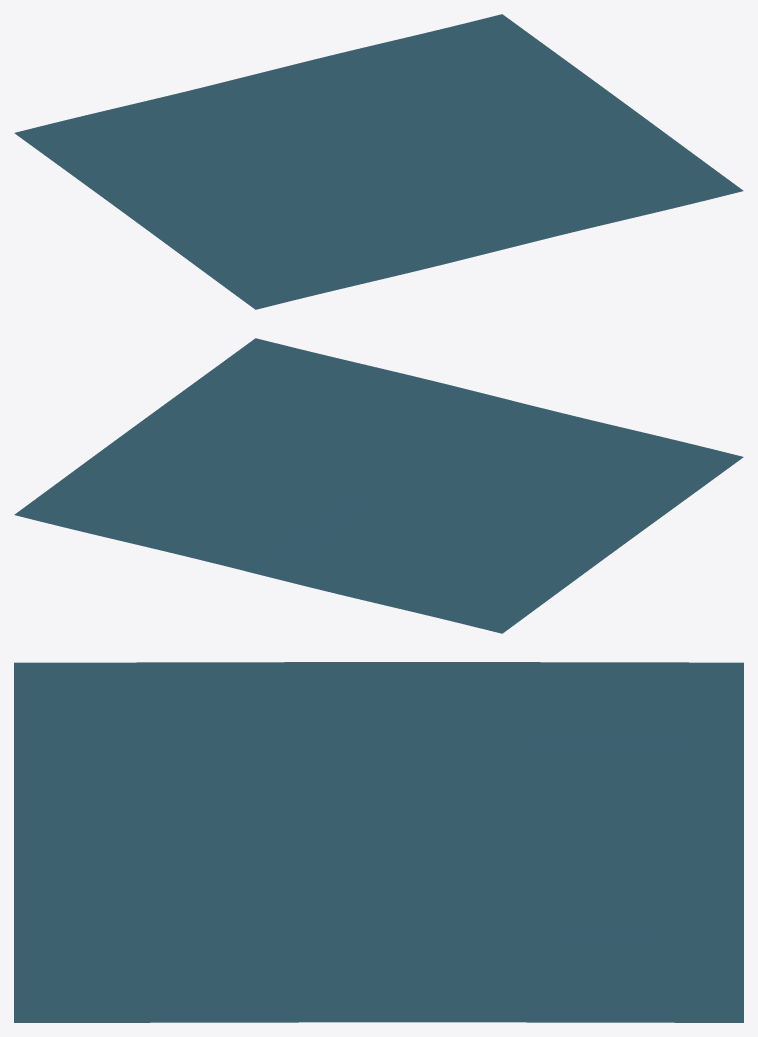
Rendered from TC_ENV_HarbourSea_V1.glb.
The picture shows the model from 3 angles, top to bottom: view 1: azimuth 30°, elevation 25°; view 2: azimuth 150°, elevation 25°; view 3: azimuth 270°, elevation 25°; orthographic projection. The views are drawn at different scales.
Parts seen in each view (by area): view 1: TC_ENV_HarbourSea_V1; view 2: TC_ENV_HarbourSea_V1; view 3: TC_ENV_HarbourSea_V1.
Part boxes in pixels (x1,y1,x2,y2): TC_ENV_HarbourSea_V1: [14, 14, 743, 309]; TC_ENV_HarbourSea_V1: [14, 338, 743, 633]; TC_ENV_HarbourSea_V1: [14, 662, 743, 1022].
Size of the model in its own units: 140 by 0.2875 by 120.
